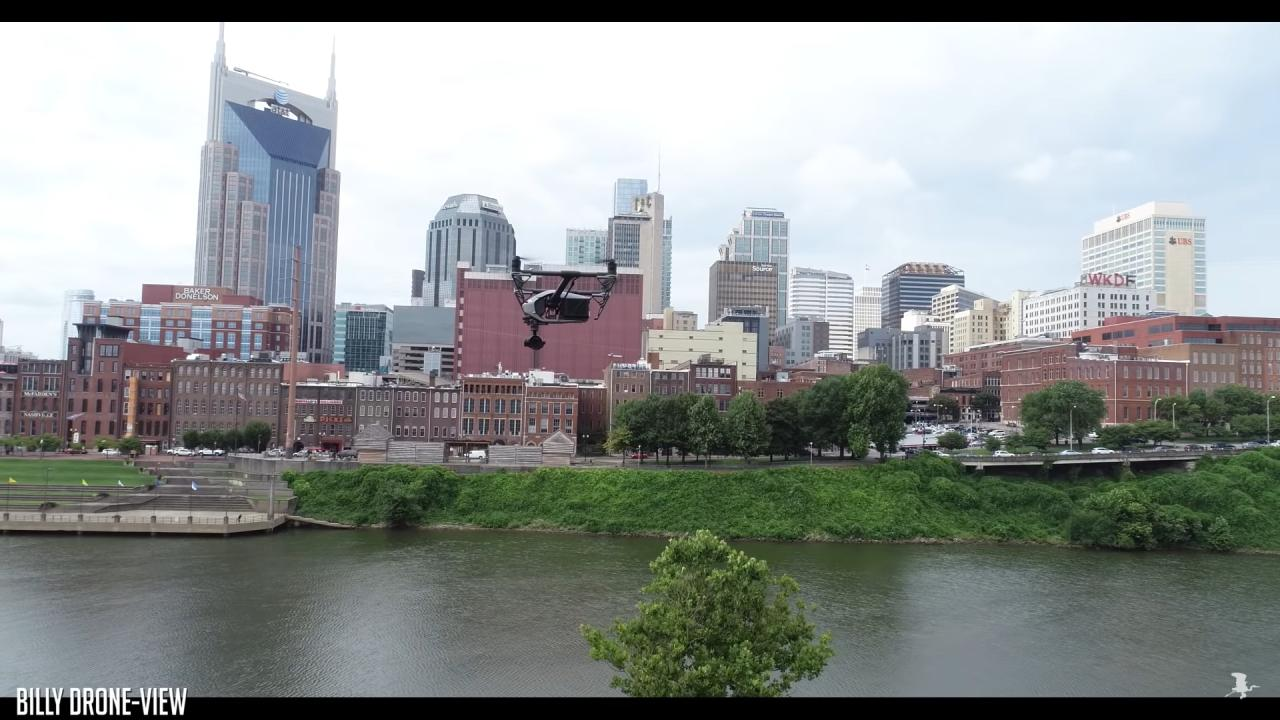Drone: (491, 242, 641, 362)
